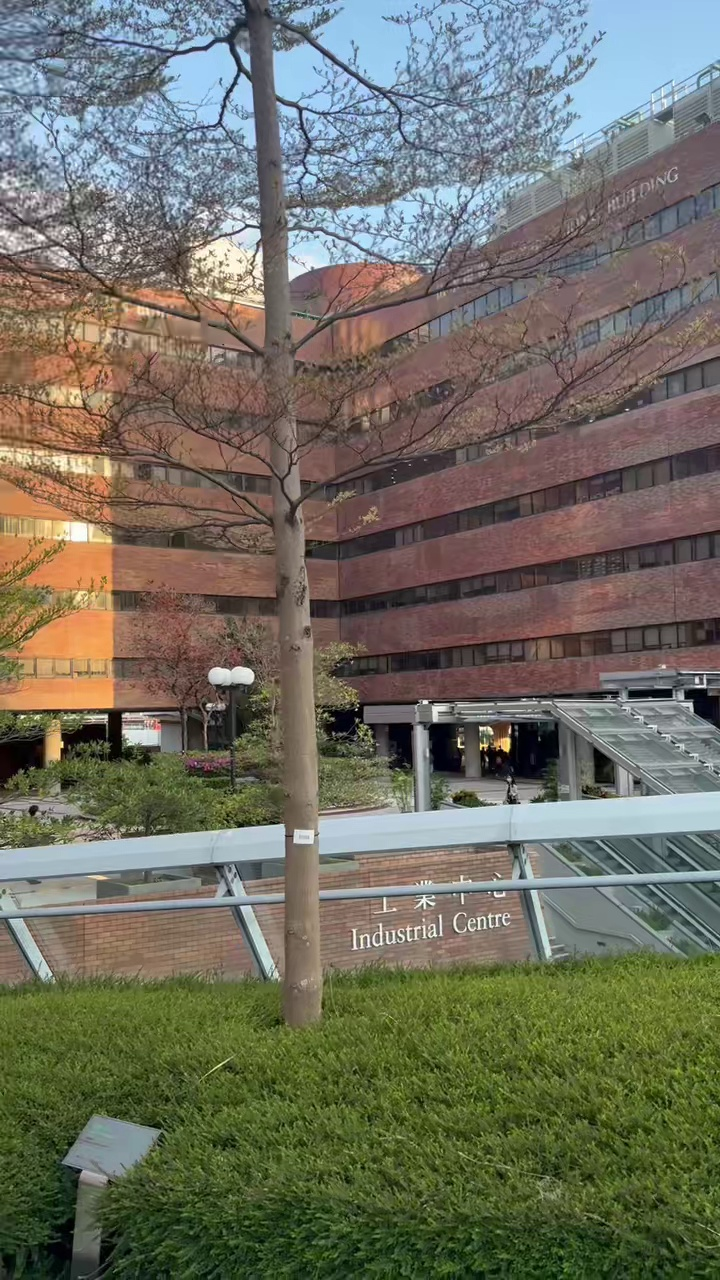Terminalia mantaly: (0, 0, 714, 1025)
